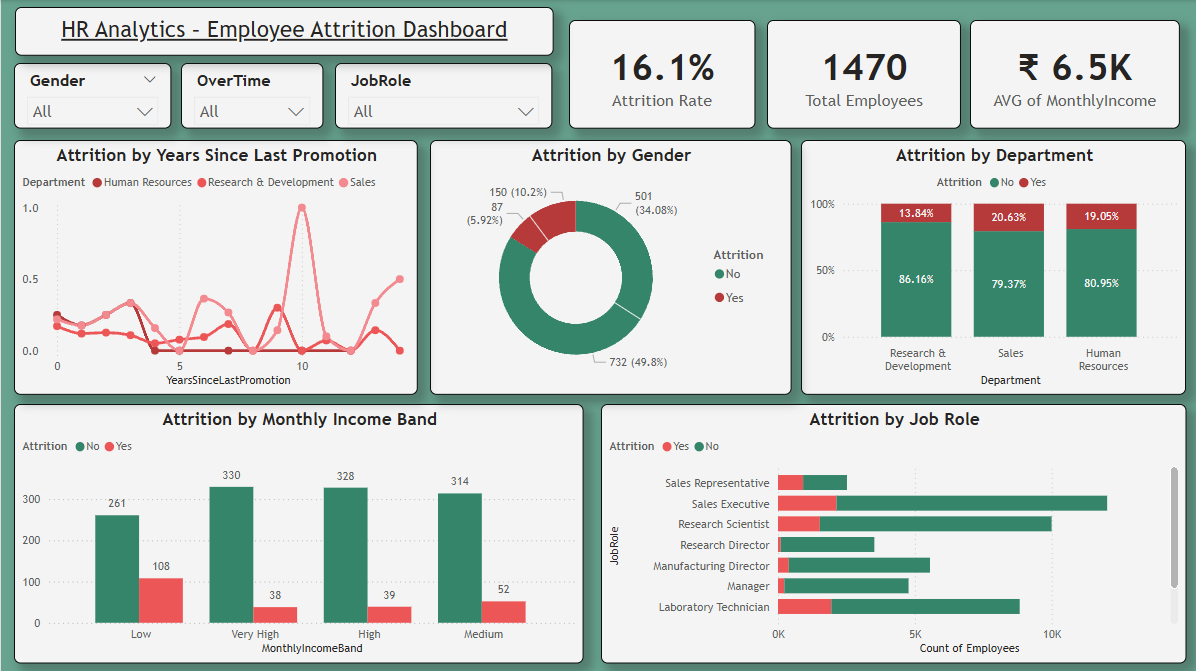

What the dashboard file says about the page in this screenshot:
{"tool":"powerbi","page":{"name":"Page 1","canvas":[1280,720],"ordinal":0},"visuals":[{"type":"card","fields":{"Values":["processed_hr_attrition.Attrition Rate Label"]},"box":[606.4,21.4,198.6,115.8],"z":0},{"type":"card","fields":{"Values":["CountNonNull(processed_hr_attrition.Age)"]},"box":[817.6,21.4,207.3,115.8],"z":1000},{"type":"card","fields":{"Values":["Avg(processed_hr_attrition.MonthlyIncome)"]},"box":[1034.7,21.4,223.9,115.8],"z":2000},{"type":"hundredPercentStackedColumnChart","title":"Attrition by Department","fields":{"Category":["processed_hr_attrition.Department"],"Series":["processed_hr_attrition.Attrition"],"Y":["CountNonNull(processed_hr_attrition.Age)"]},"box":[853.9,149,411.4,272.2],"z":3000},{"type":"clusteredColumnChart","title":"Attrition by Monthly Income Band","fields":{"Category":["processed_hr_attrition.MonthlyIncomeBand"],"Series":["processed_hr_attrition.Attrition"],"Y":["CountNonNull(processed_hr_attrition.Attrition)"]},"box":[14.2,431.8,608.3,276.7],"z":4000},{"type":"barChart","title":"Attrition by Job Role","fields":{"Category":["processed_hr_attrition.JobRole"],"Y":["Sum(processed_hr_attrition.Age)"],"Series":["processed_hr_attrition.Attrition"]},"box":[640.2,431.8,625.1,276.7],"z":5000},{"type":"donutChart","title":"Attrition by Gender","fields":{"Category":["processed_hr_attrition.Attrition"],"Y":["CountNonNull(processed_hr_attrition.Attrition)"],"Series":["processed_hr_attrition.Gender"]},"box":[457.5,149,385.7,272.2],"z":6000},{"type":"lineChart","title":"Attrition by Years Since Last Promotion","fields":{"Y":["Avg(processed_hr_attrition.Attrition Numeric)"],"Category":["processed_hr_attrition.YearsSinceLastPromotion"],"Series":["processed_hr_attrition.Department"]},"box":[13.9,149.5,431.3,272.2],"z":7000},{"type":"slicer","fields":{"Values":["processed_hr_attrition.Gender"]},"box":[14.2,67.4,168.5,70],"z":8000},{"type":"slicer","fields":{"Values":["processed_hr_attrition.OverTime"]},"box":[192.4,67.4,151.6,70],"z":9000},{"type":"slicer","fields":{"Values":["processed_hr_attrition.JobRole"]},"box":[356.5,67.4,232.3,70],"z":10000},{"type":"textbox","box":[14.6,7.8,575.3,51.6],"z":11000}]}

Visuals, with their boxes in screenshot pixels (x1, y1, x2, y2), scaled from the page's 1280x720 canvas onto the 1196x671 screenshot:
card - processed_hr_attrition.Attrition Rate Label: rect(567, 20, 752, 128)
card - CountNonNull(processed_hr_attrition.Age): rect(764, 20, 958, 128)
card - Avg(processed_hr_attrition.MonthlyIncome): rect(967, 20, 1176, 128)
"Attrition by Department" hundredPercentStackedColumnChart: rect(798, 139, 1182, 393)
"Attrition by Monthly Income Band" clusteredColumnChart: rect(13, 402, 582, 660)
"Attrition by Job Role" barChart: rect(598, 402, 1182, 660)
"Attrition by Gender" donutChart: rect(427, 139, 788, 393)
"Attrition by Years Since Last Promotion" lineChart: rect(13, 139, 416, 393)
slicer - processed_hr_attrition.Gender: rect(13, 63, 171, 128)
slicer - processed_hr_attrition.OverTime: rect(180, 63, 321, 128)
slicer - processed_hr_attrition.JobRole: rect(333, 63, 550, 128)
textbox: rect(14, 7, 551, 55)
